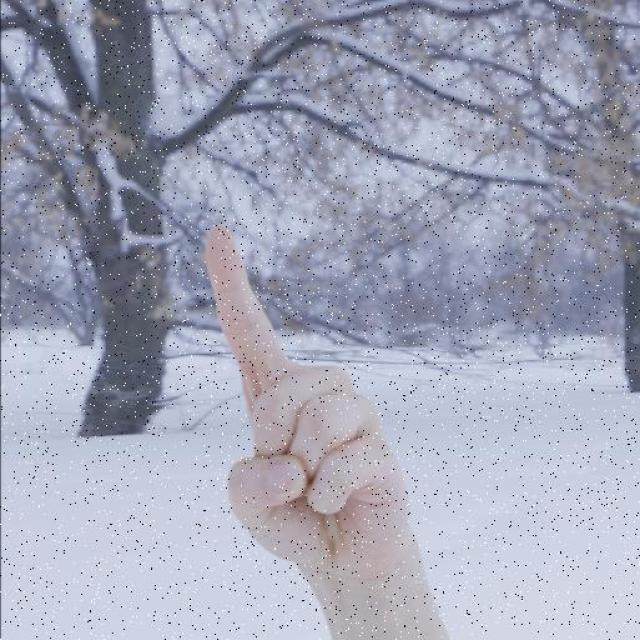Z: (199, 211, 402, 640)
